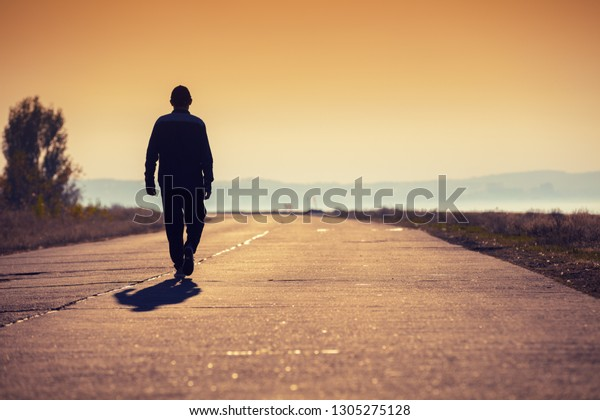Person: (142, 82, 218, 283)
